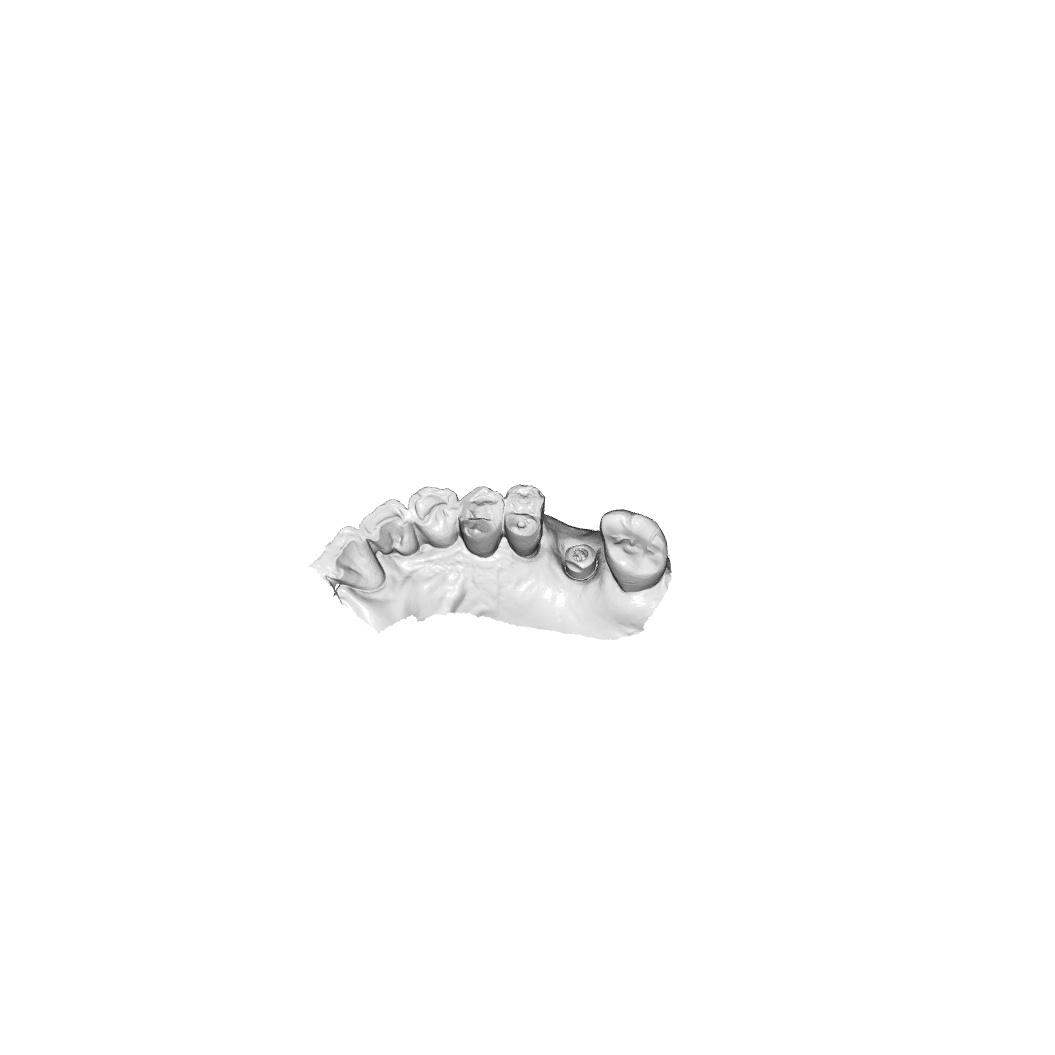canine: (406, 485, 460, 549)
implant: (563, 542, 600, 583)
incisor: (307, 525, 386, 592), (358, 496, 420, 557)
molar: (599, 508, 670, 593)
premolar: (458, 485, 505, 559), (502, 483, 546, 559)
